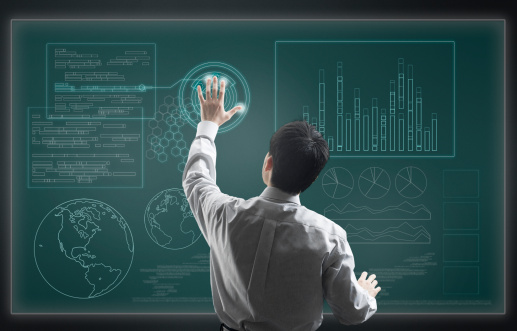em pe: (172, 89, 390, 327)
